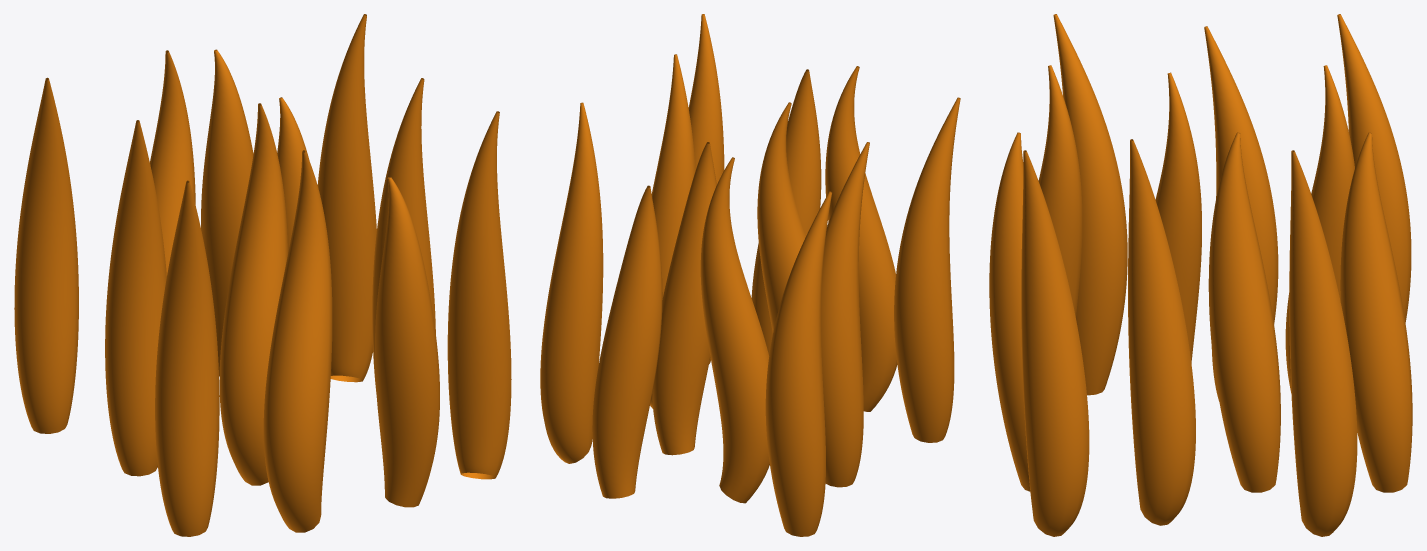
Rendered from Gras.fbx.
3 views of the same model, side by side, from view 1: azimuth 30°, elevation 25°; view 2: azimuth 150°, elevation 25°; view 3: azimuth 270°, elevation 25° (orthographic). The views are drawn at different scales.
Parts seen in each view (by area): view 1: NurbsPath.019; view 2: NurbsPath.019; view 3: NurbsPath.019.
Boxes of the visible parts, x1,y1,x2,y2 form: NurbsPath.019: (14,14,511,536); NurbsPath.019: (540,14,960,536); NurbsPath.019: (989,14,1412,536).
Bounding box in the file's own units: 54.55 × 60.22 × 60.07.
